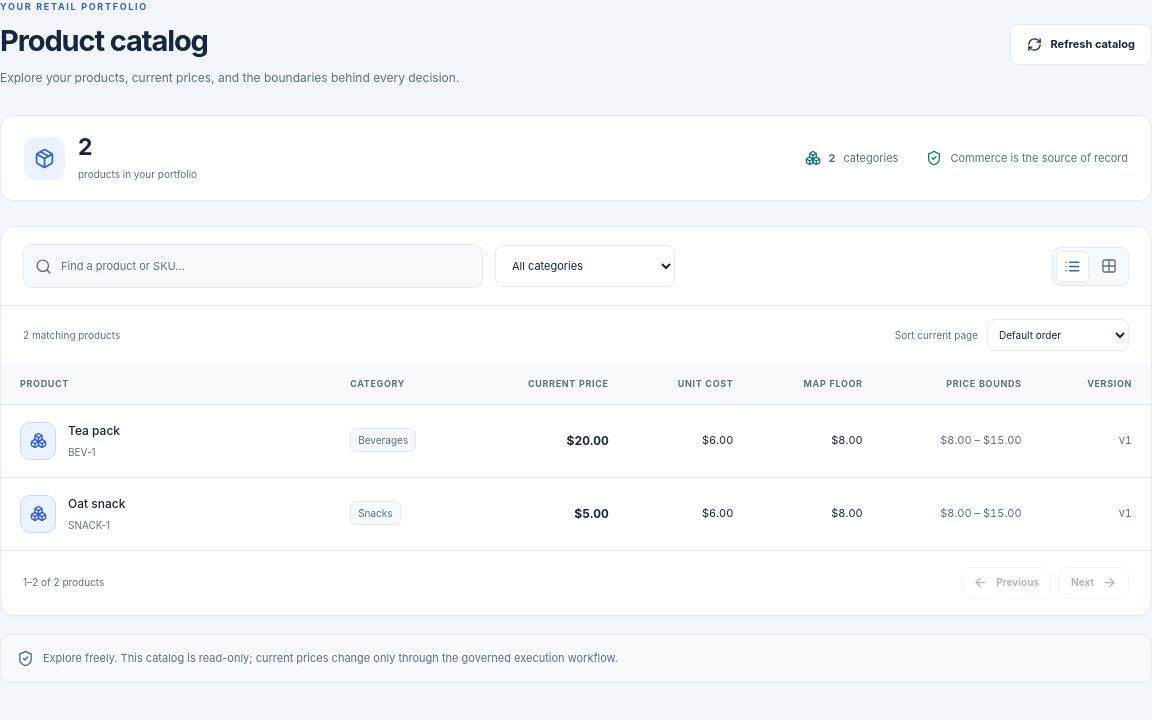
Test: catalog grid and current-page sorting use supplied products and inspection remains read-only
Later steps or results of the test are not shown.
Expected: the button with aria-label "Inspect Tea pack" is shown, top-left (20, 422), bottom-right (230, 460)
Select "Price: high to low" in the dropdown labelled "Sort current page" at coordinates (1058, 335), box top-left (987, 319), bottom-right (1129, 351)
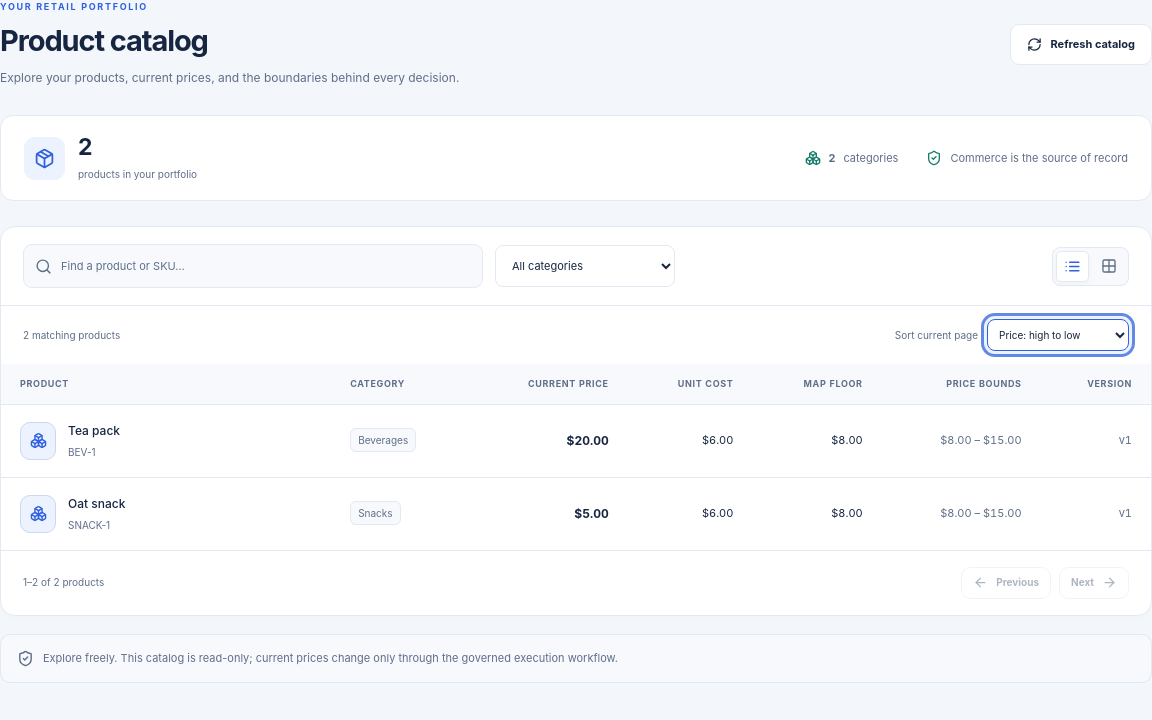
Click the button named "Grid view" at coordinates (1108, 266), box top-left (1092, 251), bottom-right (1125, 282)
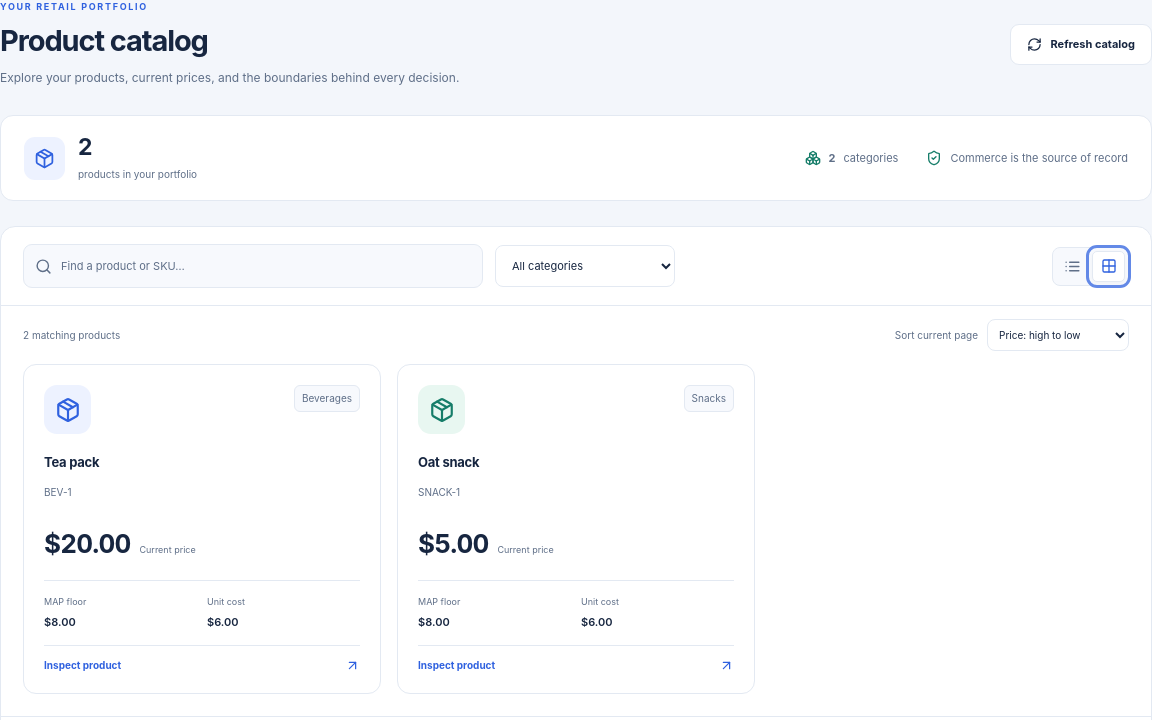
Select "Price: low to high" in the dropdown labelled "Sort current page" at coordinates (1058, 335), box top-left (987, 319), bottom-right (1129, 351)
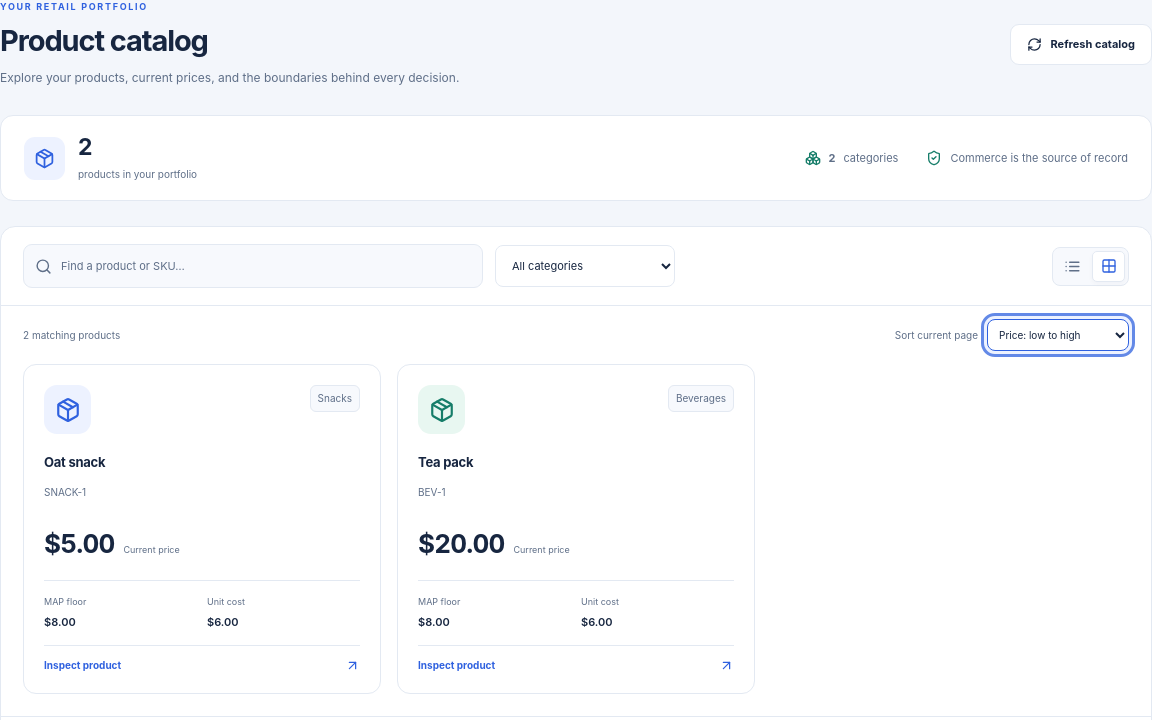
Expected: the heading "Oat snack" is shown, top-left (44, 454), bottom-right (105, 470)
Click the button with aria-label "Inspect Oat snack" at coordinates (83, 665), box top-left (44, 645), bottom-right (360, 673)
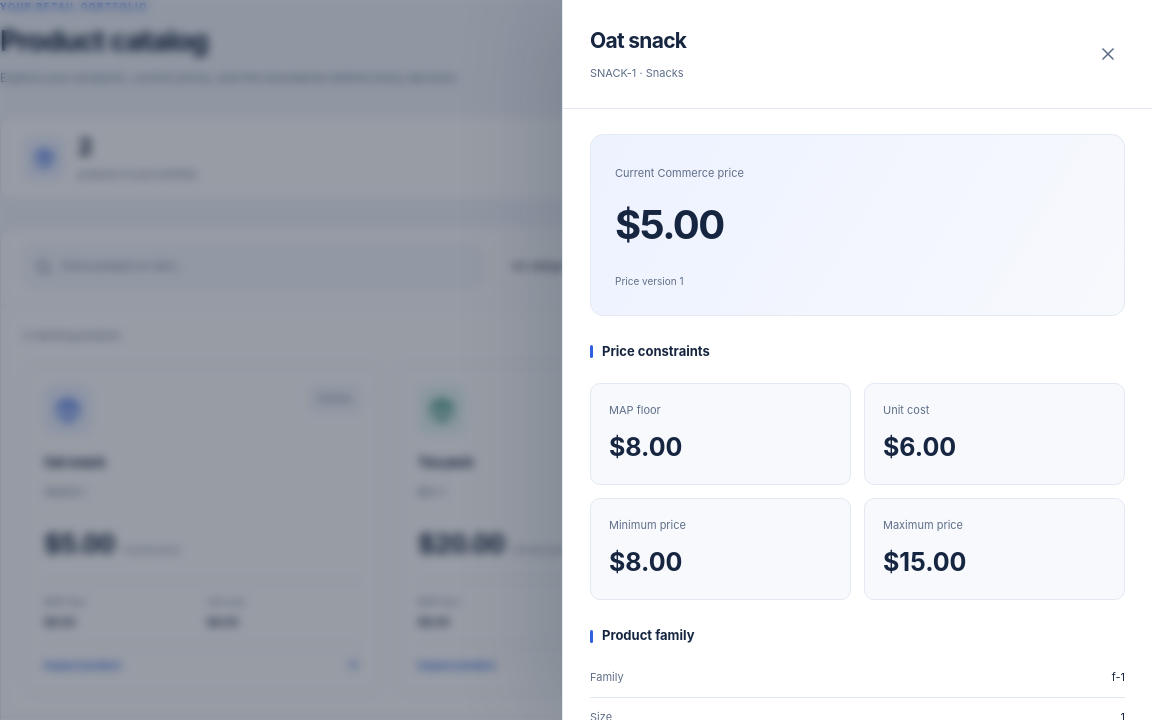
Now the dialog "Oat snack" shows "$5.00", box top-left (615, 200), bottom-right (724, 249)
Now the dialog "Oat snack" shows "Price version 1", box top-left (562, 0), bottom-right (1151, 719)
